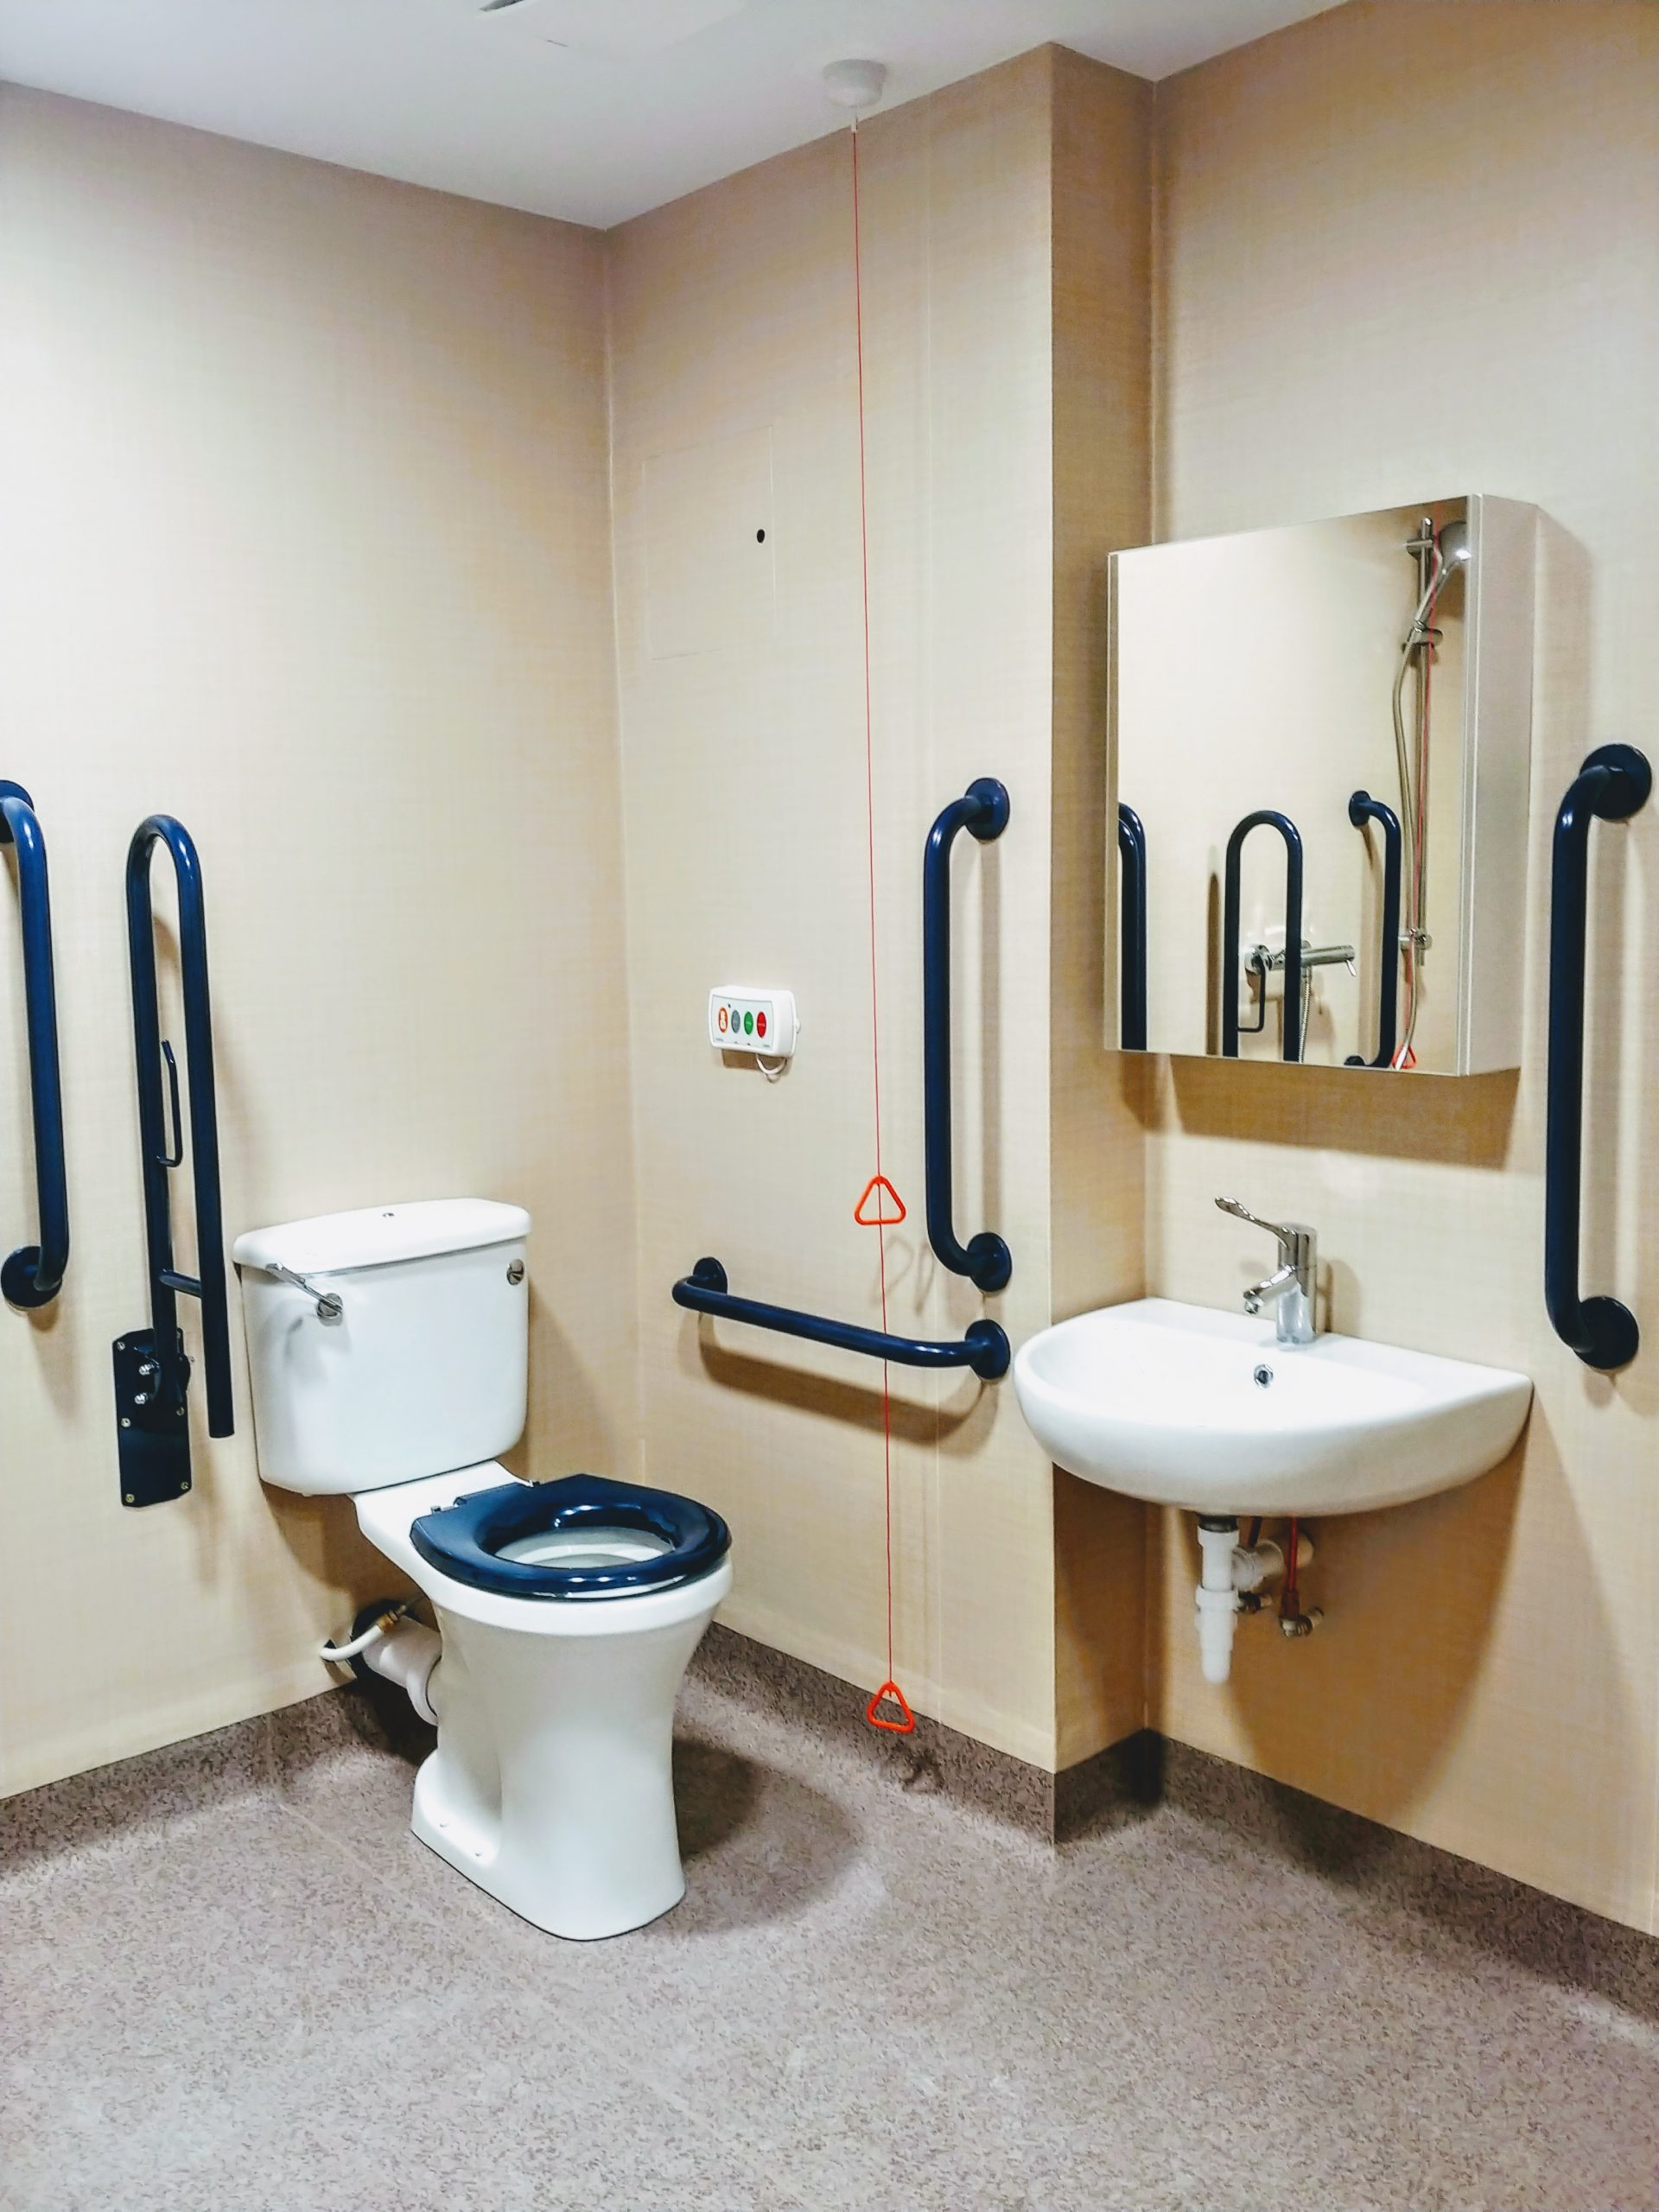faucet: (1215, 1197, 1344, 1355)
restroom_assist_bar: (113, 815, 235, 1508), (1546, 744, 1659, 1372), (922, 777, 1012, 1292), (673, 1256, 1011, 1379), (0, 779, 71, 1310)
sink: (1011, 1294, 1535, 1684)
toilet: (234, 1195, 735, 1944)
toilet_handle: (261, 1261, 343, 1327)
